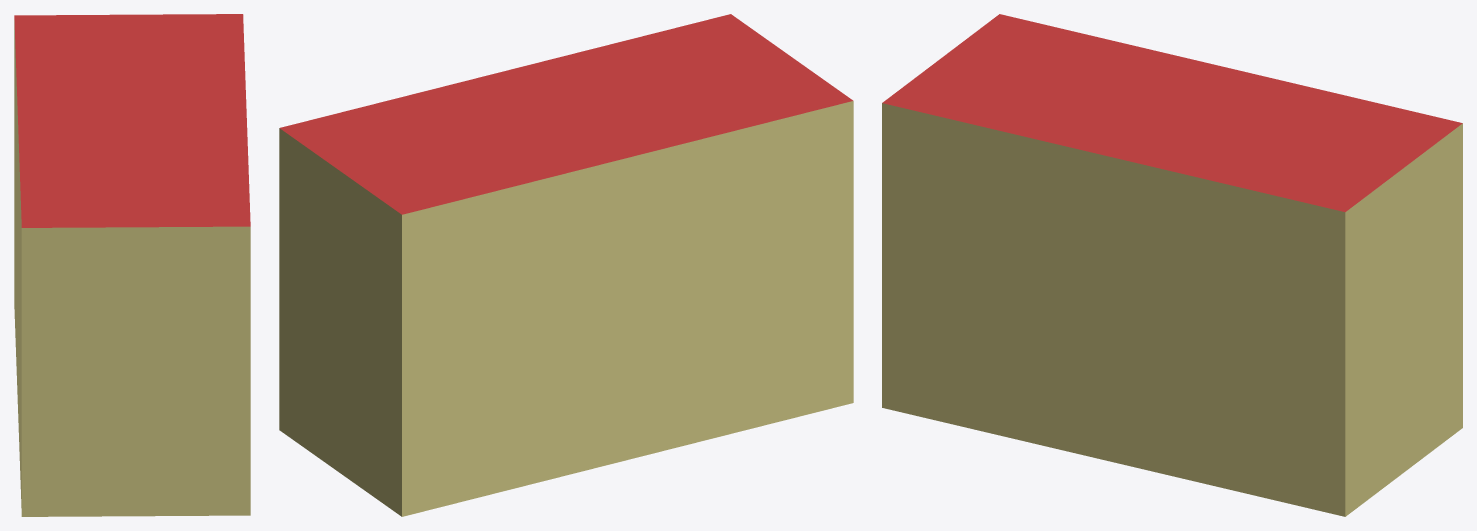
3 renders of one model, left to right at view 1: azimuth 30°, elevation 25°; view 2: azimuth 150°, elevation 25°; view 3: azimuth 270°, elevation 25°, orthographic. The views are drawn at different scales.
Parts seen in each view (by area): view 1: group_4, group_3; view 2: group_4, group_3; view 3: group_4, group_3.
Boxes of the visible parts, box(x1,y1,x2,y2) form: group_4: box(14, 20, 250, 516); group_3: box(14, 14, 250, 227); group_4: box(279, 101, 853, 516); group_3: box(280, 14, 853, 214); group_4: box(882, 103, 1462, 516); group_3: box(882, 14, 1462, 212).
Bounding box in the file's own units: 13.93 × 17.25 × 9.99.
